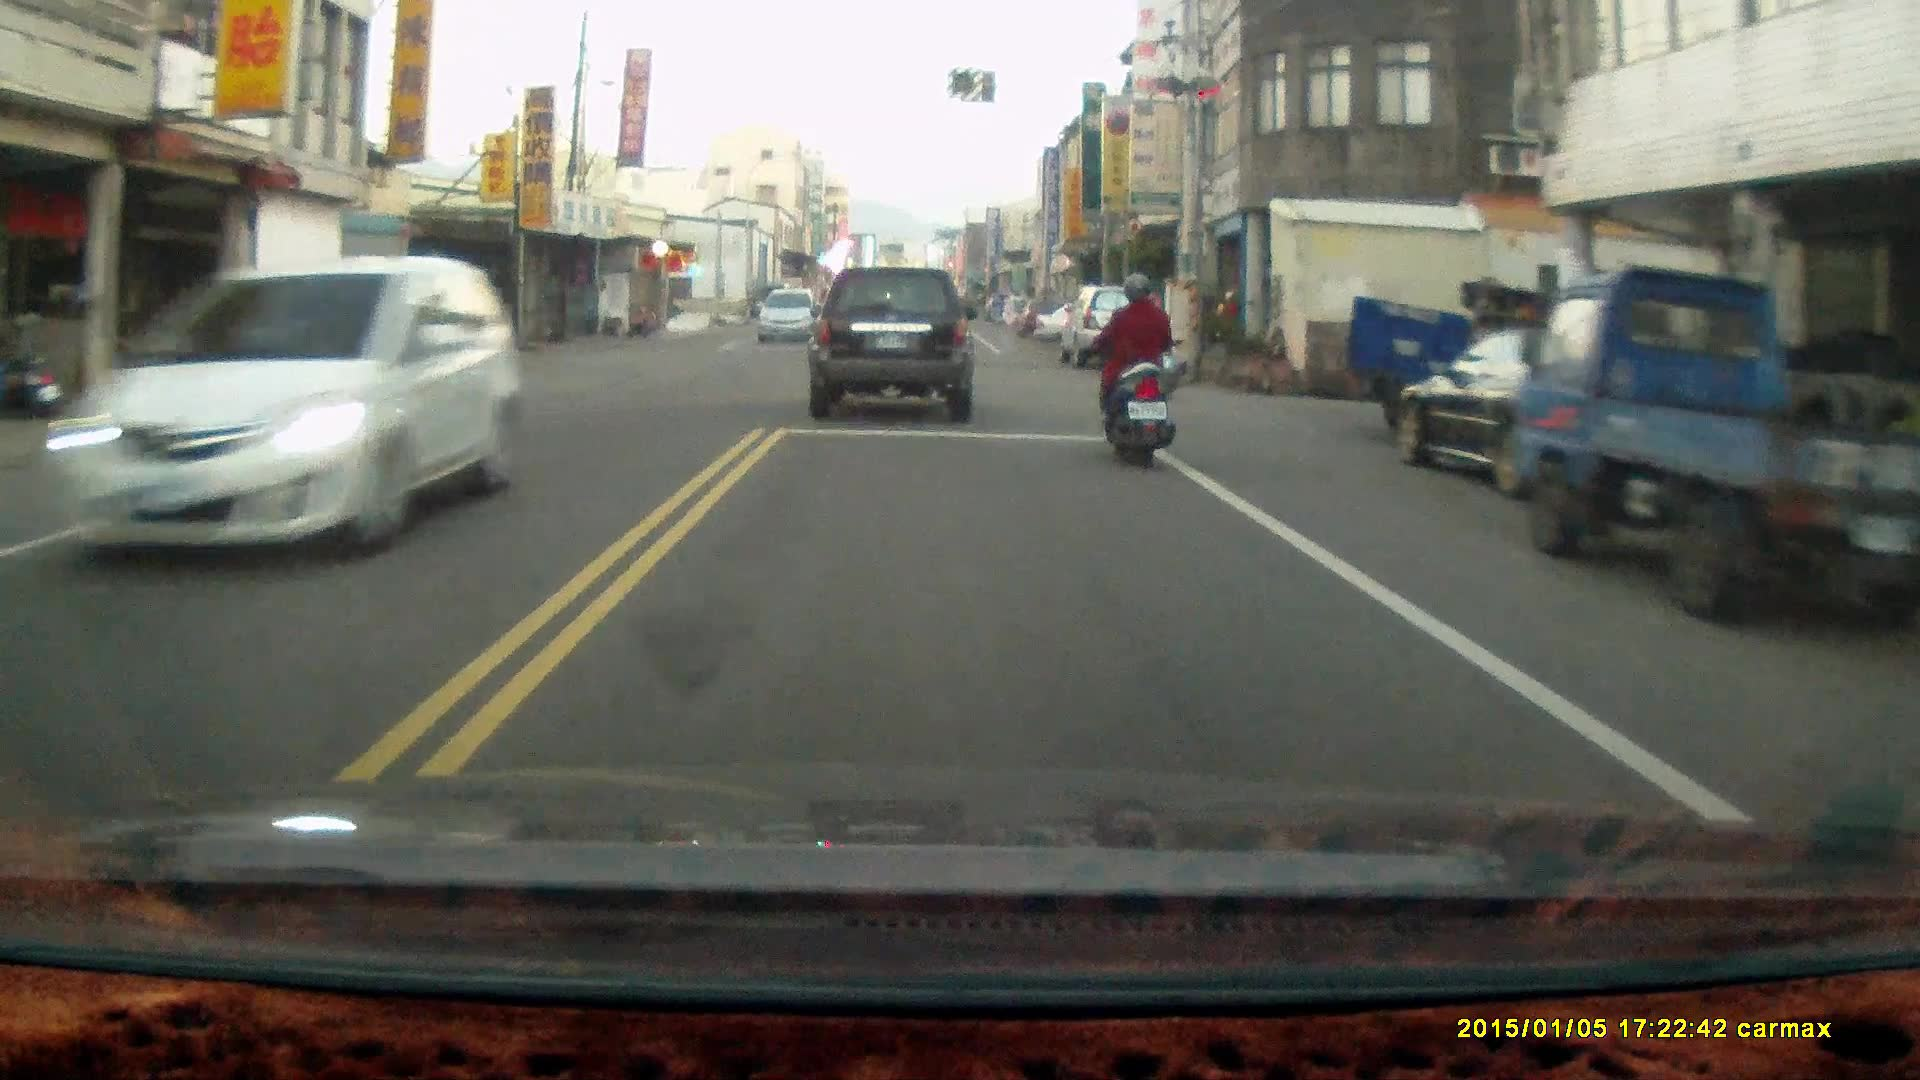rider: (1094, 268, 1175, 467)
vehicle: (1499, 257, 1920, 628), (71, 254, 509, 559), (1384, 324, 1746, 500), (1342, 279, 1609, 449), (806, 263, 980, 427), (1060, 285, 1162, 370), (758, 289, 822, 346)
